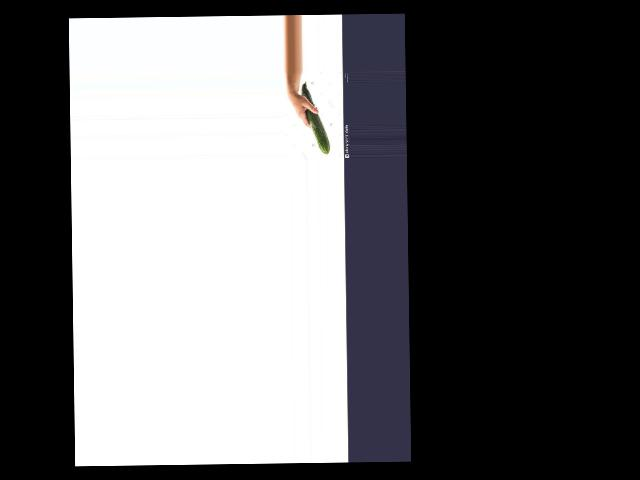cucumber: (301, 80, 330, 154)
